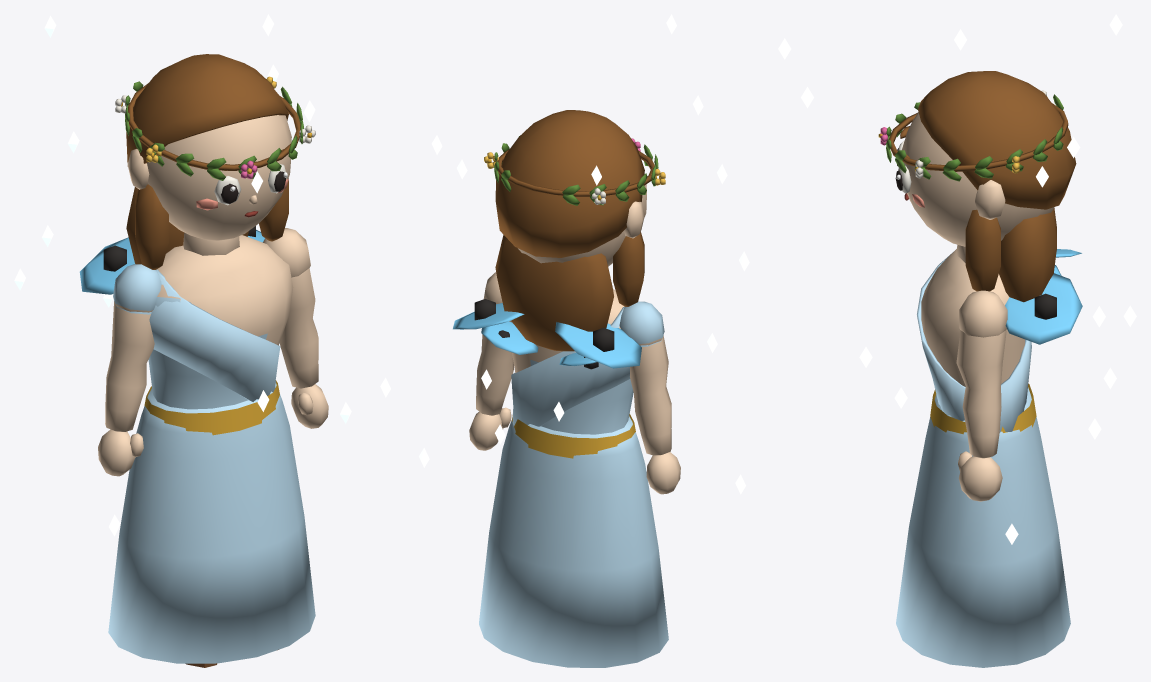
Rendered from psyche.glb.
3 views of the same model, side by side, from view 1: azimuth 30°, elevation 25°; view 2: azimuth 150°, elevation 25°; view 3: azimuth 270°, elevation 25° (orthographic). The views are drawn at different scales.
Visible parts, largest first — view 1: huefte, rumpf, haare, kopf, armL, armR, kopfschmuck, fluegelL, vfx_glitzer_0, augeL, vfx_glitzer_2; view 2: huefte, haare, rumpf, armL, armR, fluegelL, kopfschmuck, fluegelR, kopf, vfx_glitzer_1, vfx_glitzer_0; view 3: huefte, haare, rumpf, armR, kopf, fluegelR, kopfschmuck, vfx_glitzer_1, vfx_glitzer_2, vfx_glitzer_0.
Part boxes in pixels (box(x1,y1,x2,y2)): huefte: box(108, 383, 315, 663); rumpf: box(144, 235, 293, 435); haare: box(126, 54, 288, 269); kopf: box(127, 115, 291, 255); armL: box(98, 264, 161, 476); armR: box(263, 228, 328, 428); kopfschmuck: box(115, 76, 315, 180); fluegelL: box(79, 237, 134, 294); vfx_glitzer_0: box(14, 14, 315, 290); augeL: box(214, 176, 241, 205); vfx_glitzer_2: box(42, 225, 351, 423); huefte: box(479, 416, 668, 667); haare: box(495, 110, 644, 351); rumpf: box(509, 289, 635, 458); armL: box(619, 301, 680, 494); armR: box(469, 272, 513, 450); fluegelL: box(555, 322, 641, 369); kopfschmuck: box(484, 136, 665, 205); fluegelR: box(453, 299, 538, 354); kopf: box(518, 184, 646, 266); vfx_glitzer_1: box(380, 159, 745, 494); vfx_glitzer_0: box(431, 14, 727, 352); huefte: box(896, 387, 1070, 667); haare: box(918, 71, 1076, 302); rumpf: box(917, 249, 1036, 434); armR: box(956, 290, 1007, 501); kopf: box(902, 112, 1054, 262); fluegelR: box(1005, 273, 1082, 344); kopfschmuck: box(878, 90, 1068, 181); vfx_glitzer_1: box(894, 14, 1136, 439); vfx_glitzer_2: box(859, 306, 1116, 544); vfx_glitzer_0: box(778, 29, 1080, 158).
Bounding box in the file's own units: 1.4 × 2.44 × 1.33.
